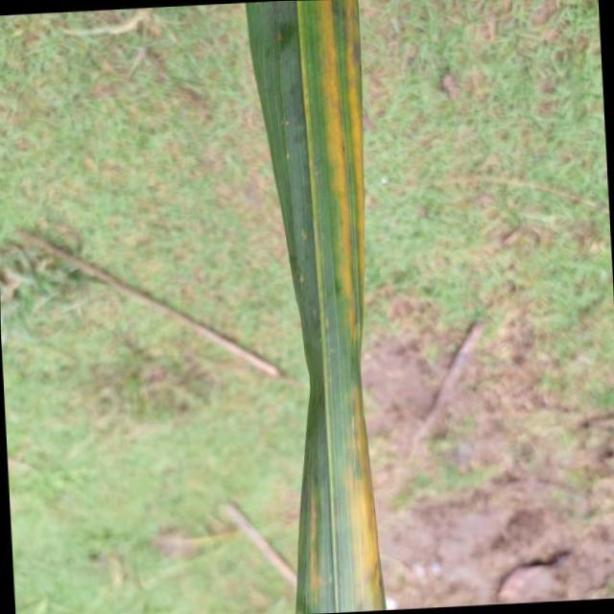Megnesium: (242, 0, 385, 614)
